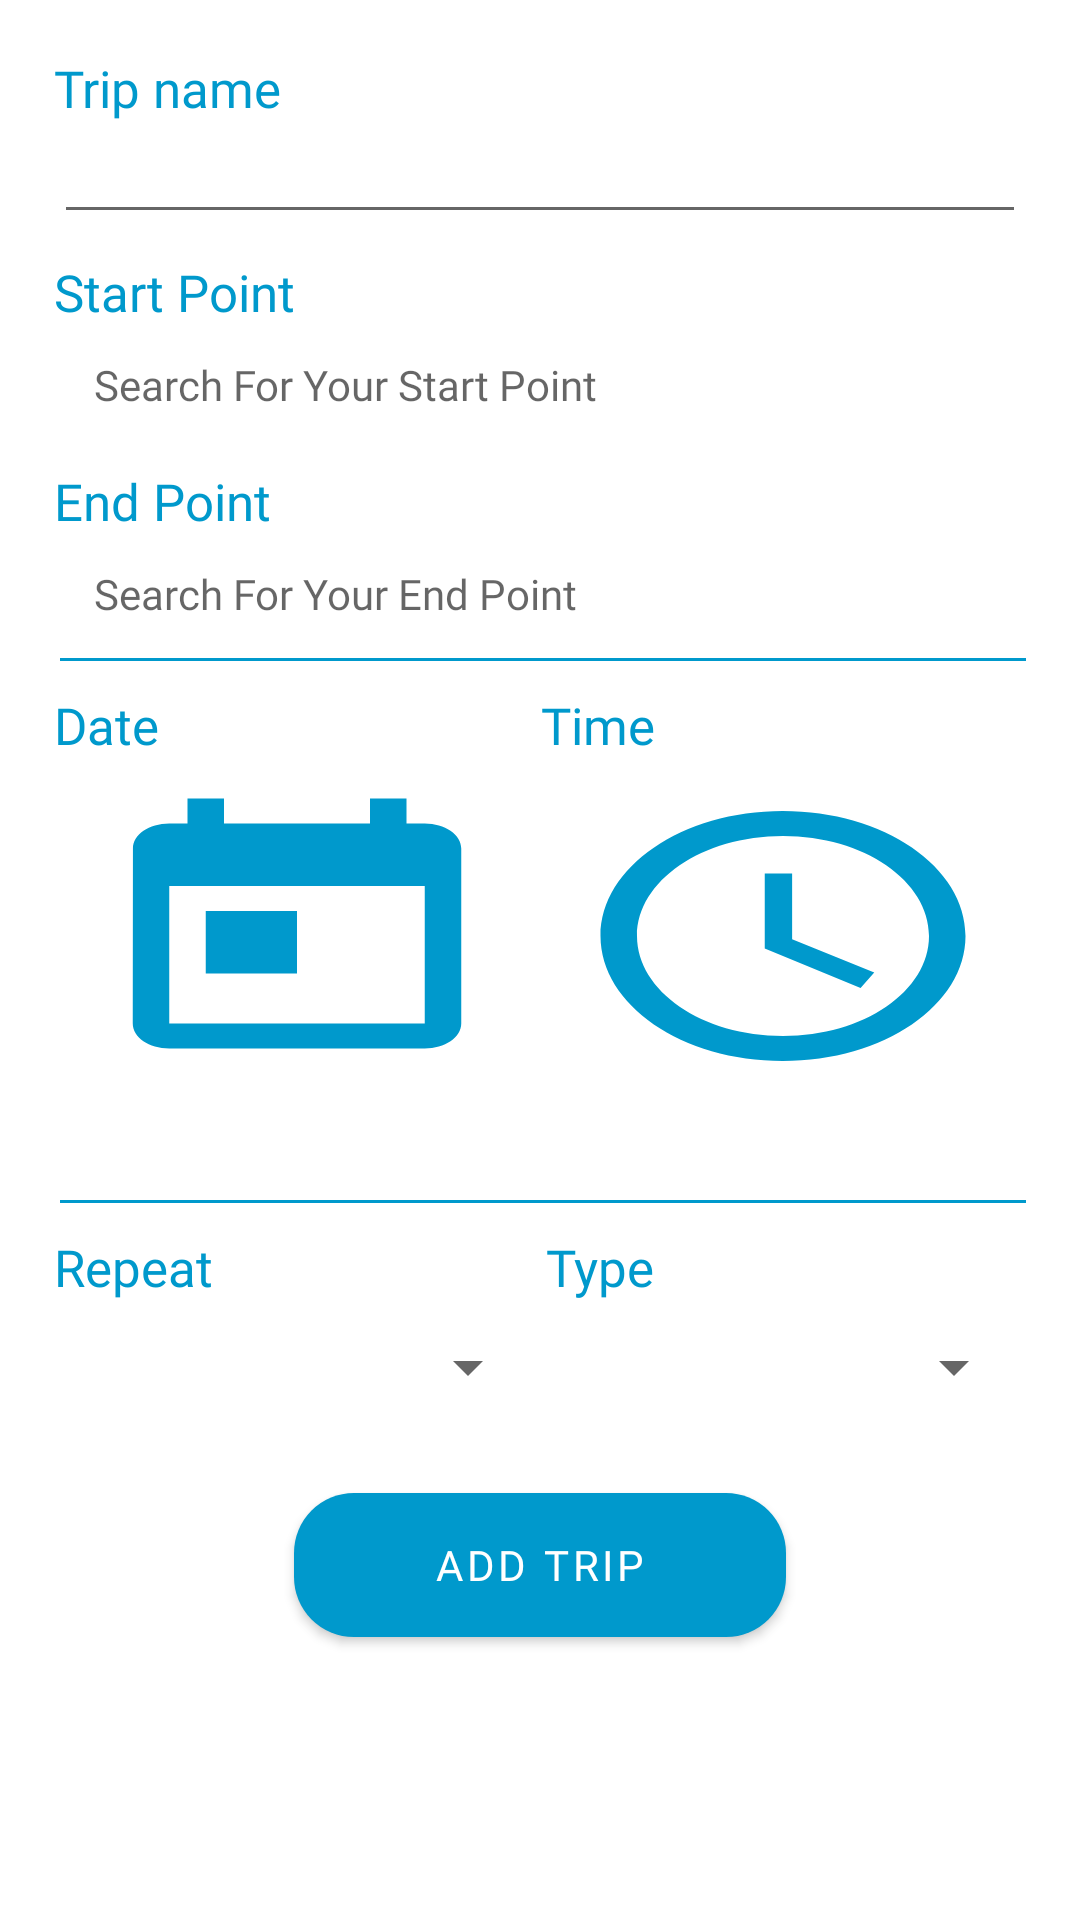

Icon bounding boxes for this 1080w x 1920h phone screenshot, format (x1, y1, x2, y2):
today: (132, 798, 462, 1049)
